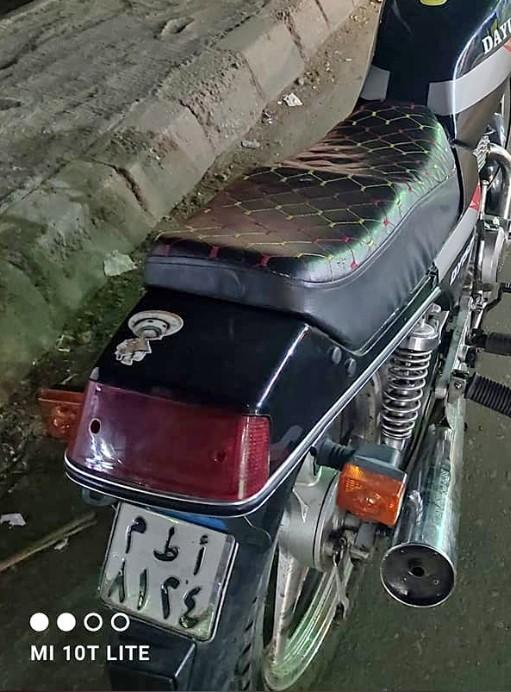License Plate: (95, 492, 233, 639)
